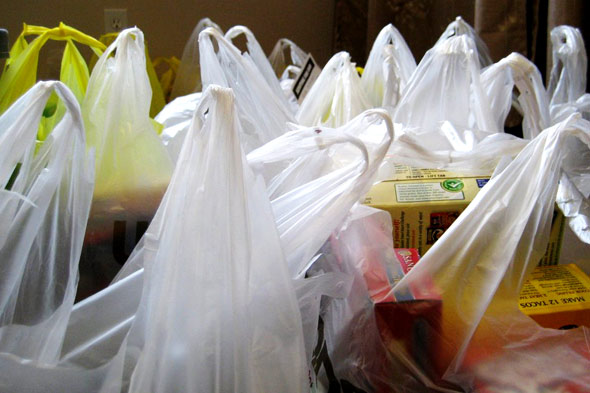Nonrec_Plastic: (5, 10, 590, 392)
